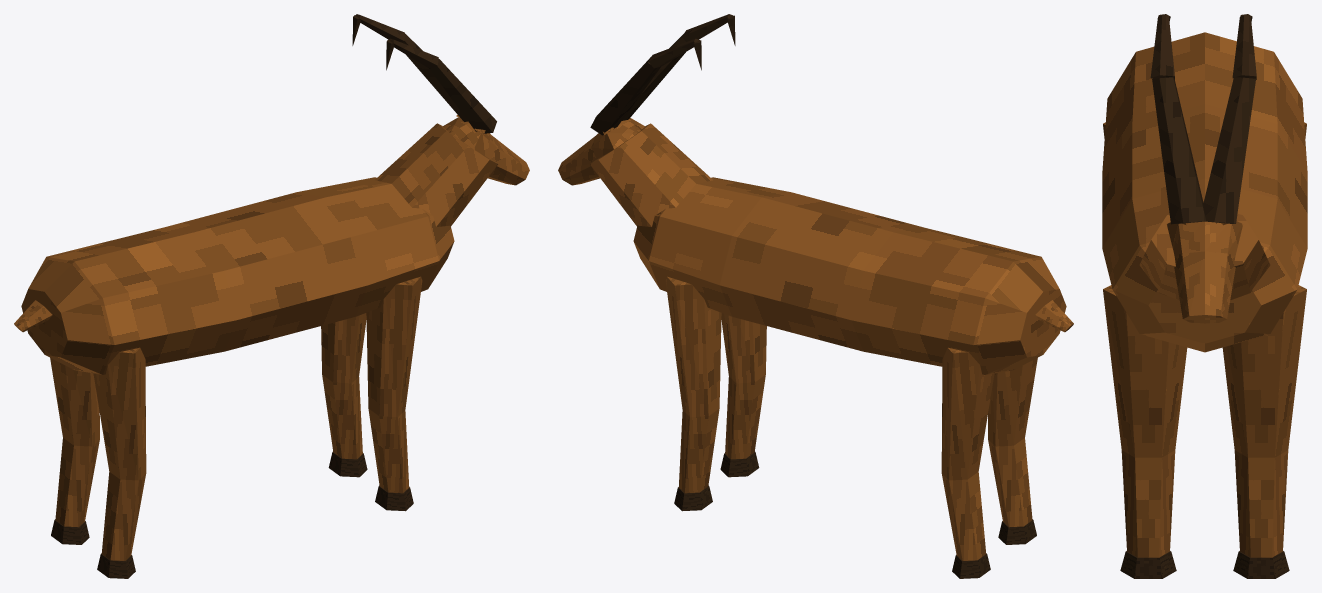
Rendered from ibice.glb.
3 renders of one model, left to right at view 1: azimuth 30°, elevation 25°; view 2: azimuth 150°, elevation 25°; view 3: azimuth 270°, elevation 25°, orthographic. The views are drawn at different scales.
Parts seen in each view (by area): view 1: cuerpo, pata_delantera_der, pata_trasera_der, cuello, pata_trasera_izq, pata_delantera_izq, cuernos, cabeza, pezuna_trasera_izq, pezuna_trasera_der, pezuna_delantera_der, pezuna_delantera_izq (+1 smaller); view 2: cuerpo, pata_delantera_izq, pata_trasera_izq, cuello, pata_trasera_der, pata_delantera_der, cuernos, cabeza, pezuna_trasera_der, pezuna_trasera_izq, pezuna_delantera_izq, pezuna_delantera_der (+1 smaller); view 3: cuerpo, pata_delantera_izq, pata_delantera_der, cuernos, cabeza, cuello, pezuna_delantera_izq, pezuna_delantera_der.
Part boxes in pixels (x1,y1,x2,y2): cuerpo: (21, 177, 454, 374); pata_delantera_der: (366, 276, 422, 493); pata_trasera_der: (93, 347, 146, 560); cuello: (375, 123, 497, 226); pata_trasera_izq: (50, 357, 99, 527); pata_delantera_izq: (321, 313, 366, 459); cuernos: (352, 14, 496, 133); cabeza: (442, 117, 529, 185); pezuna_trasera_izq: (51, 519, 89, 544); pezuna_trasera_der: (97, 553, 135, 578); pezuna_delantera_der: (375, 485, 413, 511); pezuna_delantera_izq: (328, 451, 367, 477); cuerpo: (633, 177, 1066, 374); pata_delantera_izq: (665, 276, 721, 493); pata_trasera_izq: (941, 347, 994, 560); cuello: (590, 123, 712, 226); pata_trasera_der: (988, 357, 1037, 527); pata_delantera_der: (721, 313, 766, 459); cuernos: (590, 14, 735, 135); cabeza: (558, 118, 645, 185); pezuna_trasera_der: (998, 519, 1036, 544); pezuna_trasera_izq: (952, 553, 990, 578); pezuna_delantera_izq: (674, 485, 712, 511); pezuna_delantera_der: (720, 451, 759, 477); cuerpo: (1102, 32, 1307, 352); pata_delantera_izq: (1222, 285, 1306, 557); pata_delantera_der: (1103, 285, 1187, 557); cuernos: (1150, 14, 1256, 224); cabeza: (1167, 221, 1243, 323); cuello: (1139, 214, 1270, 300); pezuna_delantera_izq: (1233, 551, 1289, 578); pezuna_delantera_der: (1120, 551, 1176, 578).
Size of the model in its own units: 1.4 by 1.2 by 0.4.
1 material, 1 textured.
